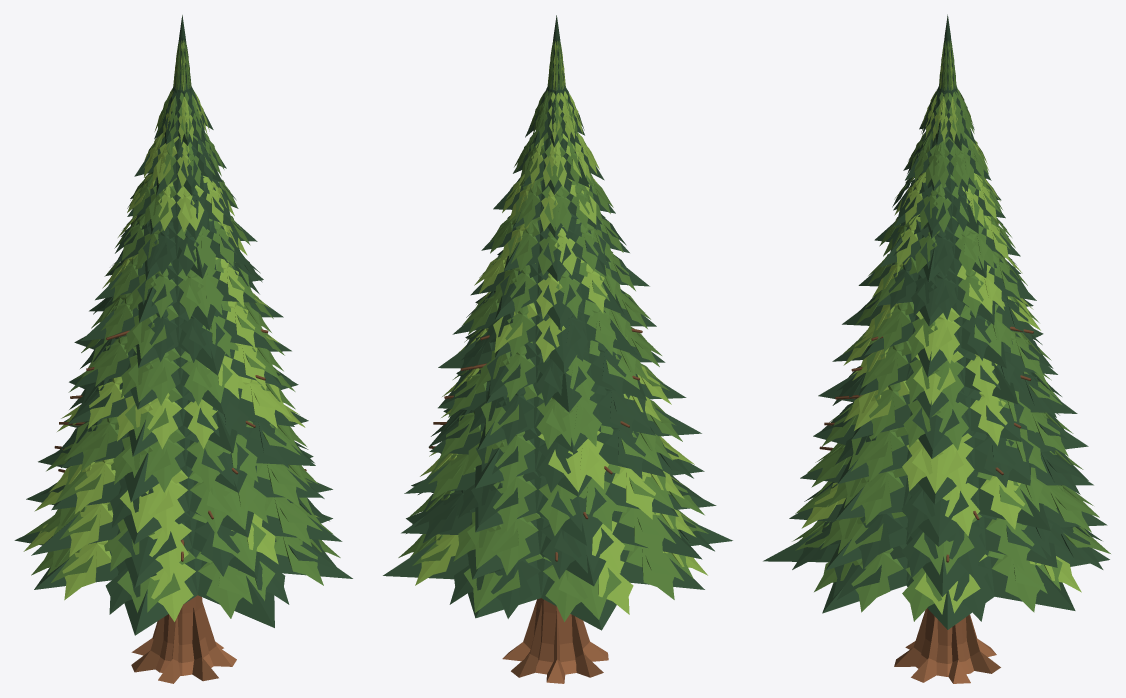
File: pine_tree.glb
The picture shows the model from 3 angles, left to right: view 1: azimuth 30°, elevation 25°; view 2: azimuth 150°, elevation 25°; view 3: azimuth 270°, elevation 25°; orthographic projection.
Parts seen in each view (by area): view 1: Foliage, Trunk; view 2: Foliage, Trunk; view 3: Foliage, Trunk.
Part boxes in pixels (x1,y1,x2,y2): Foliage: [14, 15, 352, 635]; Trunk: [54, 329, 306, 683]; Foliage: [383, 15, 732, 630]; Trunk: [429, 328, 642, 683]; Foliage: [763, 14, 1110, 629]; Trunk: [819, 326, 1033, 683].
Size of the model in its own units: 2.93 by 6.03 by 2.95.
